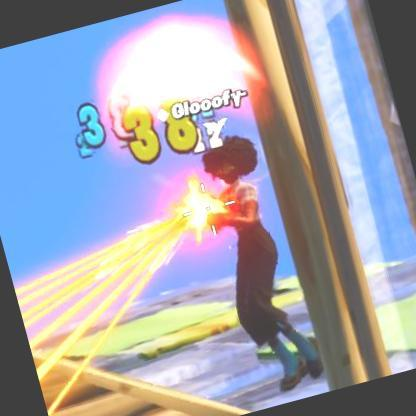person: (202, 164, 326, 396)
